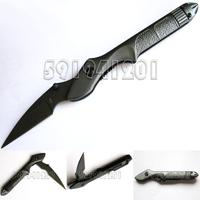knife: (1, 5, 185, 152)
